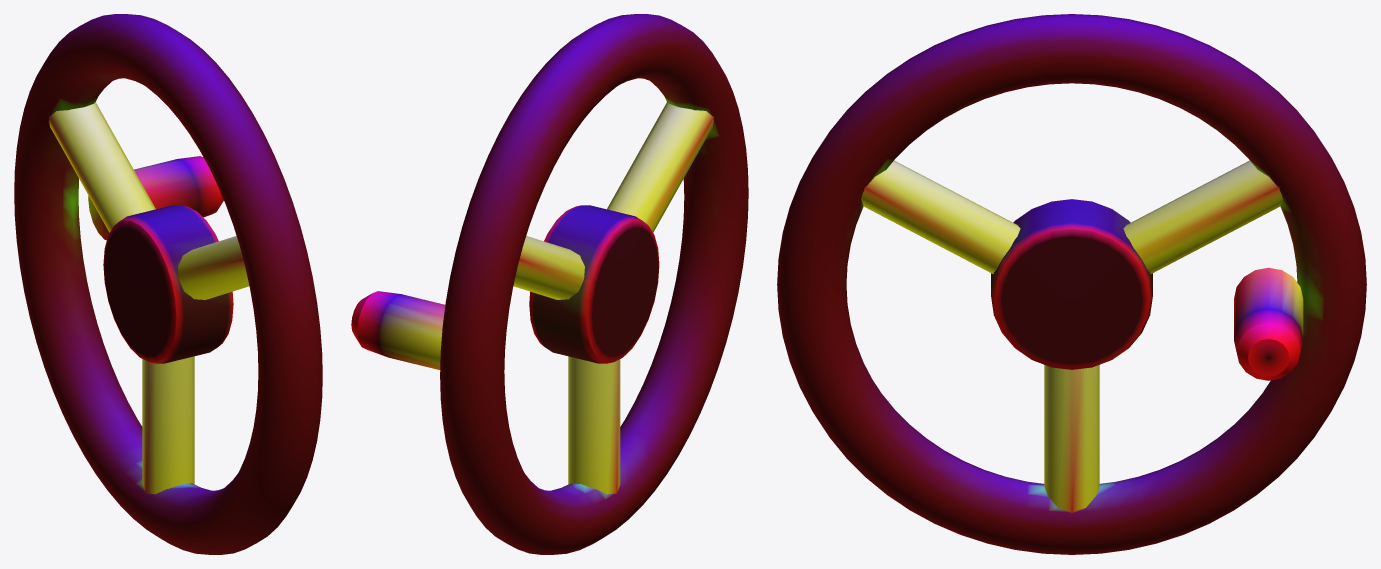
File: prop_saw_wheel.fbx
3 views of the same model, side by side, from view 1: azimuth 30°, elevation 25°; view 2: azimuth 150°, elevation 25°; view 3: azimuth 270°, elevation 25° (orthographic). The views are drawn at different scales.
Visible parts, largest first — view 1: prop_saw_wheel; view 2: prop_saw_wheel; view 3: prop_saw_wheel.
Boxes of the visible parts, x1=… form: prop_saw_wheel: x1=14, y1=14, x2=322, y2=554; prop_saw_wheel: x1=351, y1=14, x2=748, y2=554; prop_saw_wheel: x1=777, y1=14, x2=1366, y2=554.
Bounding box in the file's own units: 0.0366 × 0.102 × 0.102.
